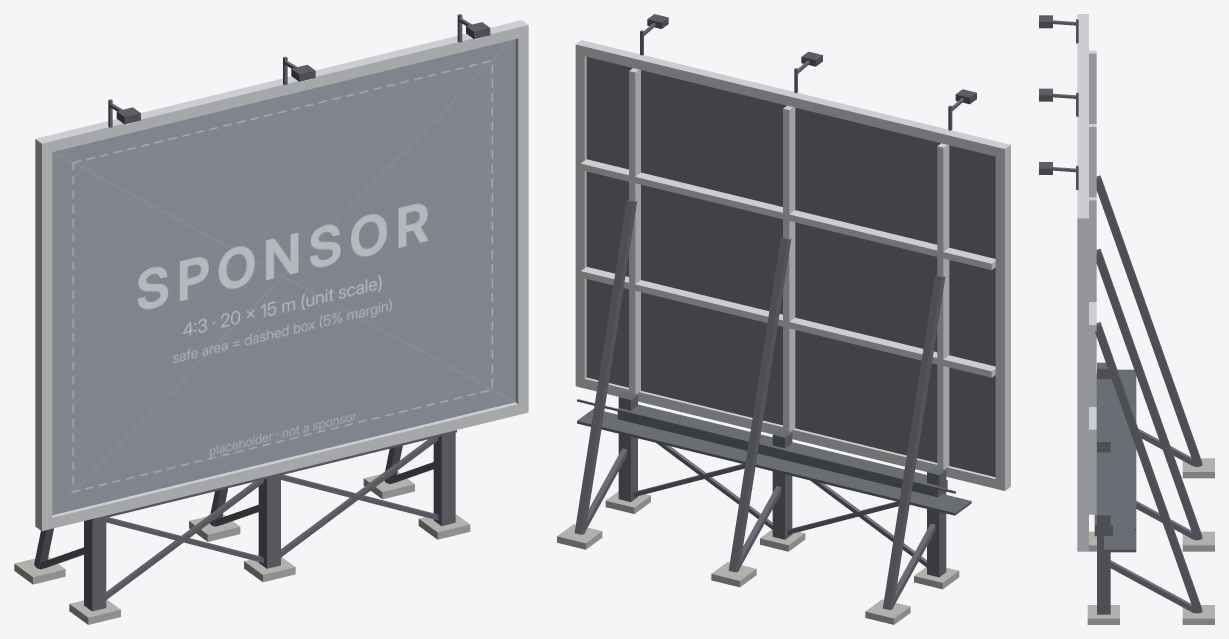
File: billboard-rooftop.glb
3 views of the same model, side by side, from view 1: azimuth 30°, elevation 25°; view 2: azimuth 150°, elevation 25°; view 3: azimuth 270°, elevation 25° (orthographic). The views are drawn at different scales.
Visible parts, largest first — view 1: SponsorPatch, Frame, Posts, Footings, LampBodies; view 2: Backing, Frame, Posts, Footings, LampBodies; view 3: Posts, Frame, Footings, LampBodies.
Boxes of the visible parts, x1=… form: SponsorPatch: x1=52, y1=39, x2=515, y2=515; Frame: x1=35, y1=20, x2=528, y2=531; Posts: x1=34, y1=14, x2=471, y2=611; Footings: x1=14, y1=471, x2=470, y2=624; LampBodies: x1=116, y1=22, x2=490, y2=124; Backing: x1=586, y1=57, x2=995, y2=477; Frame: x1=575, y1=40, x2=1010, y2=490; Posts: x1=574, y1=23, x2=971, y2=609; Footings: x1=557, y1=491, x2=959, y2=624; LampBodies: x1=647, y1=14, x2=976, y2=104; Posts: x1=1053, y1=19, x2=1202, y2=614; Frame: x1=1077, y1=14, x2=1096, y2=551; Footings: x1=1087, y1=458, x2=1214, y2=624; LampBodies: x1=1039, y1=15, x2=1052, y2=174.
Size of the model in its own units: 20.9 by 21.65 by 7.6.
Materials: 7 (1 with a texture image).
